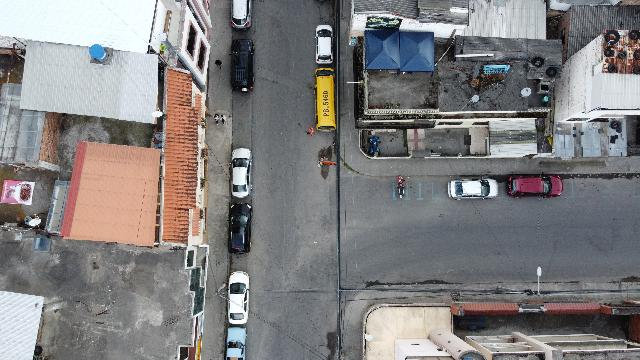Vehiculo: (508, 174, 562, 198), (230, 38, 254, 92), (228, 202, 252, 253), (228, 272, 250, 324), (448, 178, 498, 200), (230, 148, 252, 198), (315, 24, 333, 64), (226, 327, 247, 359), (230, 0, 252, 30)
